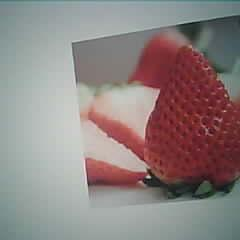straw-ripe: (145, 45, 240, 190)
